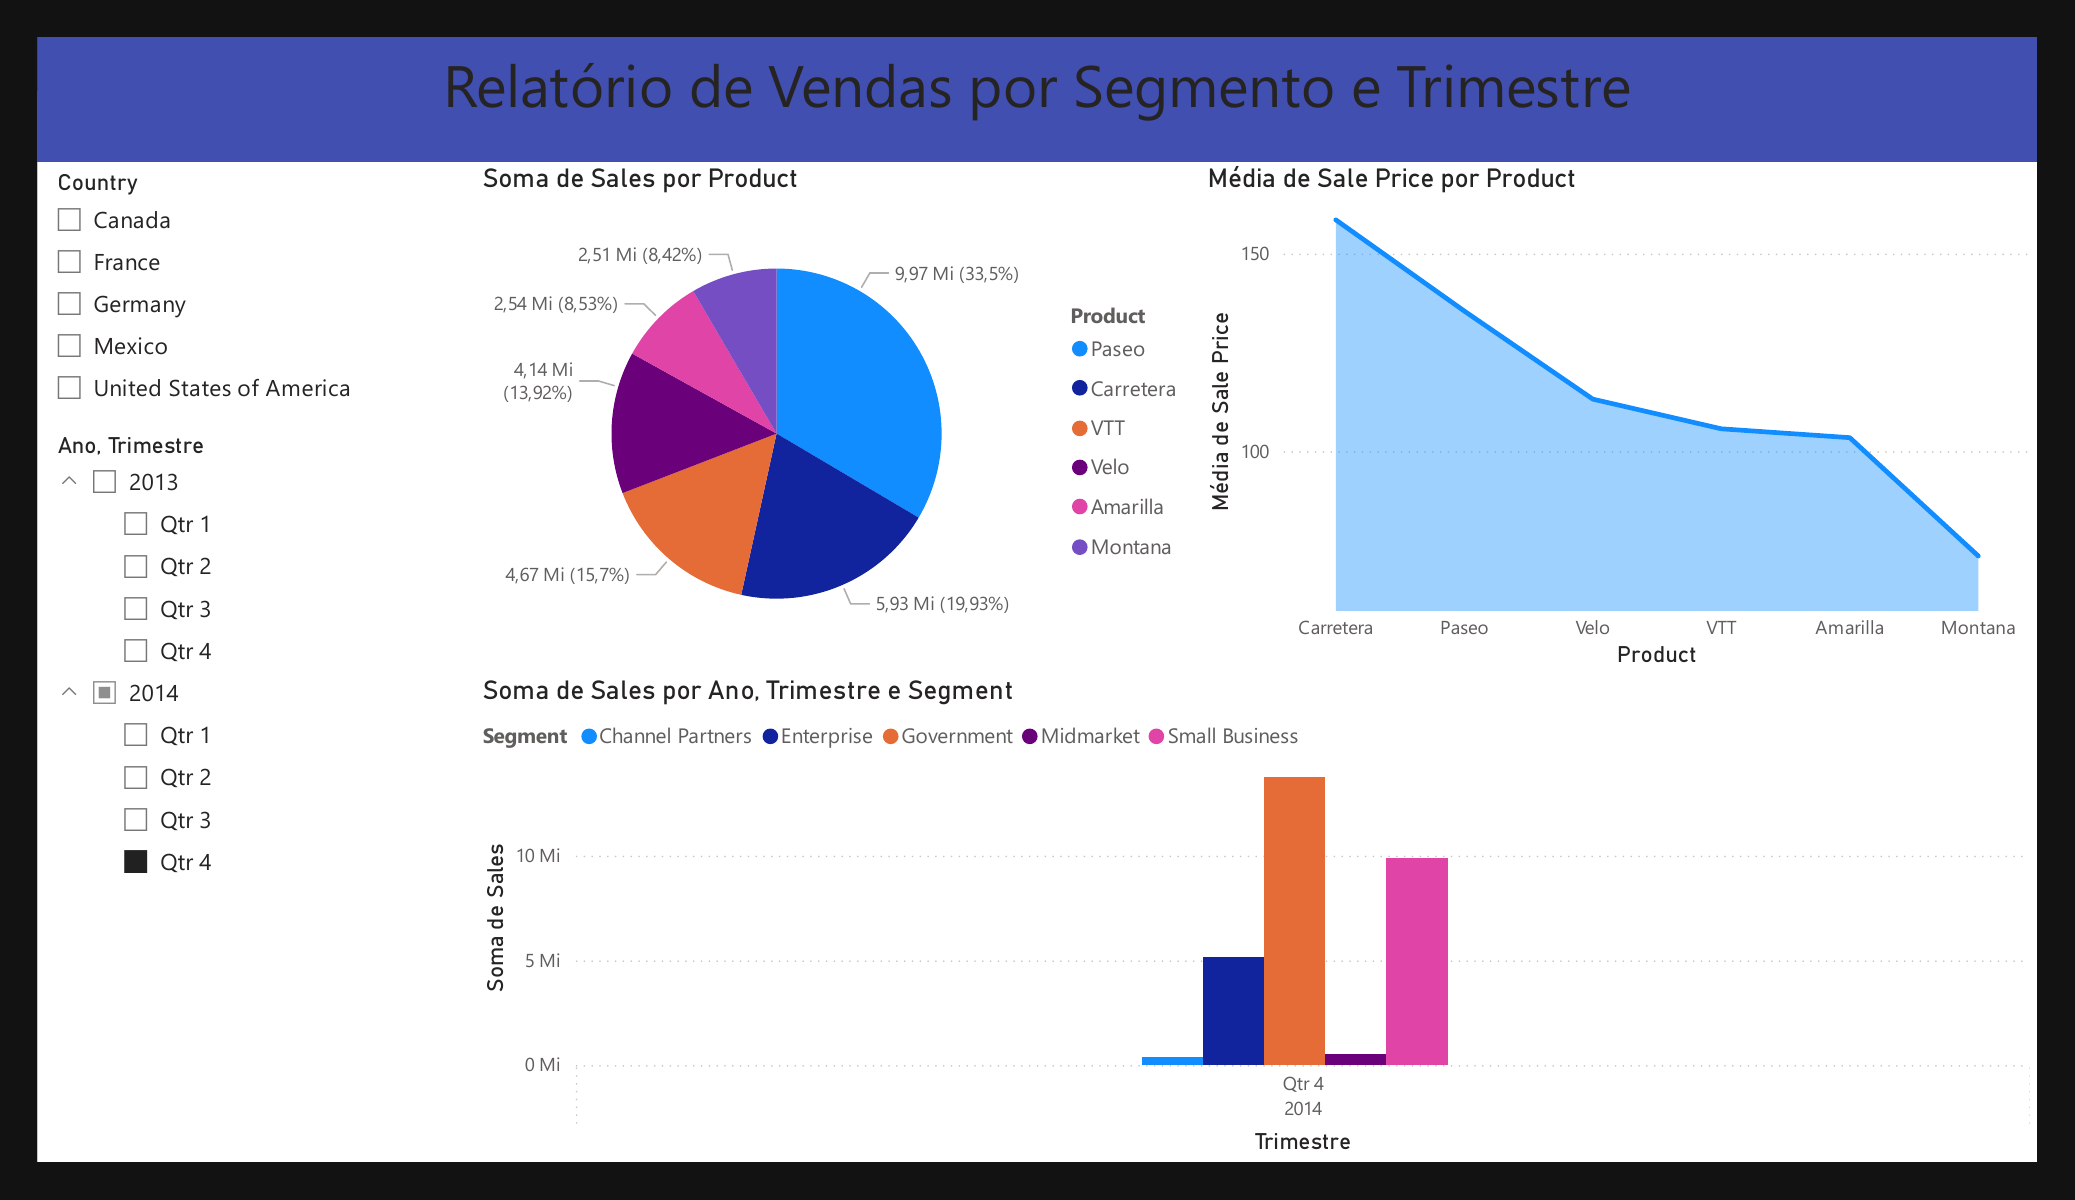

The dashboard page shown, as its layout file describes it:
{"tool":"powerbi","page":{"name":"Página 1","canvas":[1280,720],"ordinal":0},"visuals":[{"type":"pieChart","title":"Vendas por Produto","fields":{"Y":["Sum(financials. Sales)"],"Category":["financials.Product"]},"box":[280,80,464,328],"z":0,"group":"g1"},{"type":"areaChart","title":"Média do Preço de Venda por Produto","fields":{"Category":["financials.Product"],"Y":["Avg(financials.Sale Price)"]},"box":[744,80,536,328],"z":1000,"group":"g1"},{"type":"clusteredColumnChart","title":"Vendas por Ano, Trimestre e Segmento","fields":{"Y":["Sum(financials. Sales)"],"Category":["financials.Date.Variation.Hierarquia de datas.Ano","financials.Date.Variation.Hierarquia de datas.Trimestre"],"Series":["financials.Segment"]},"box":[280,408,1000,312],"z":2000,"group":"g1"},{"type":"slicer","fields":{"Values":["financials.Date.Variation.Hierarquia de datas.Ano","financials.Date.Variation.Hierarquia de datas.Trimestre"]},"box":[0,248,280,472],"z":3000,"group":"g1"},{"type":"textbox","box":[0,0,1280,80],"z":4000,"group":"g1"},{"type":"slicer","fields":{"Values":["financials.Country"]},"box":[0,80,280,168],"z":5000,"group":"g1"},{"type":"group","id":"g1","title":"Grupo 1","box":[0,0,1280,720],"z":5001},{"type":"actionButton","box":[24,16,96,40],"z":5002}]}

Visuals, with their boxes on the page's 1280x720 design canvas (x1, y1, x2, y2). These are canvas units, not pixel positions in the 2075x1200 screenshot, which may show the page scaled, cropped or inside an application window:
"Vendas por Produto" pieChart: (left=280, top=80, right=744, bottom=408)
"Média do Preço de Venda por Produto" areaChart: (left=744, top=80, right=1280, bottom=408)
"Vendas por Ano, Trimestre e Segmento" clusteredColumnChart: (left=280, top=408, right=1280, bottom=720)
slicer - financials.Date.Variation.Hierarquia de datas.Ano x financials.Date.Variation.Hierarquia de datas.Trimestre: (left=0, top=248, right=280, bottom=720)
textbox: (left=0, top=0, right=1280, bottom=80)
slicer - financials.Country: (left=0, top=80, right=280, bottom=248)
"Grupo 1" group: (left=0, top=0, right=1280, bottom=720)
actionButton: (left=24, top=16, right=120, bottom=56)
